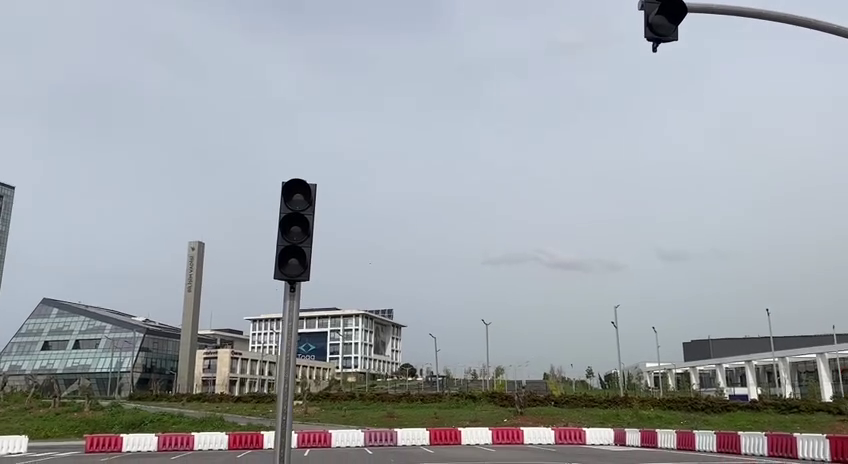trafficLight: (269, 174, 320, 288), (635, 1, 688, 55)
